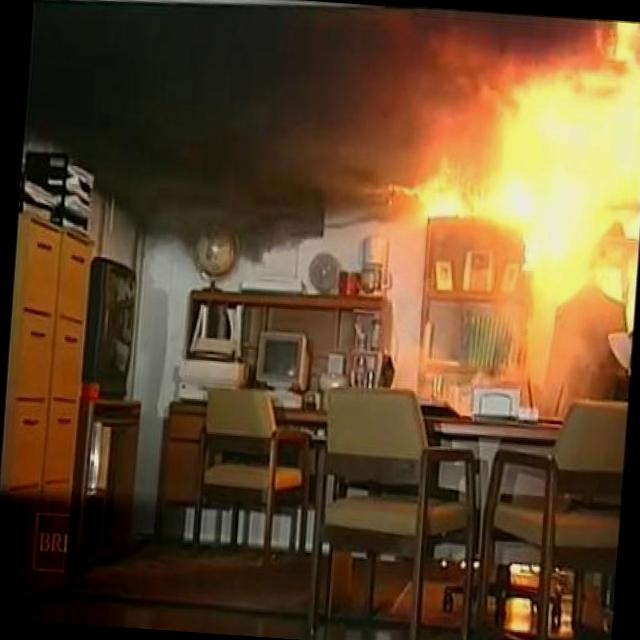fire: (428, 14, 640, 215)
smoke: (19, 0, 404, 225)
